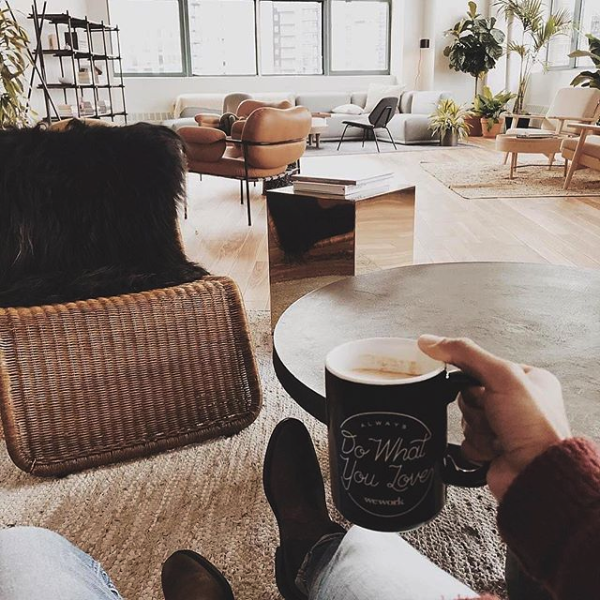wework: (362, 494, 408, 507)
